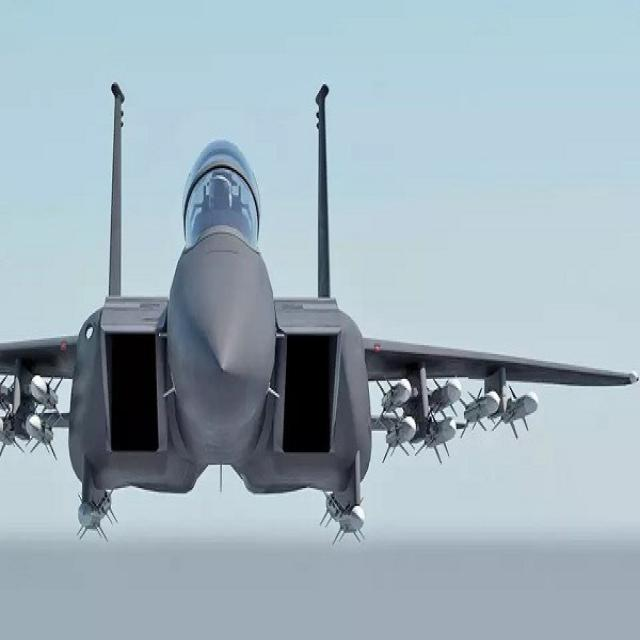F15: (4, 49, 639, 596)
